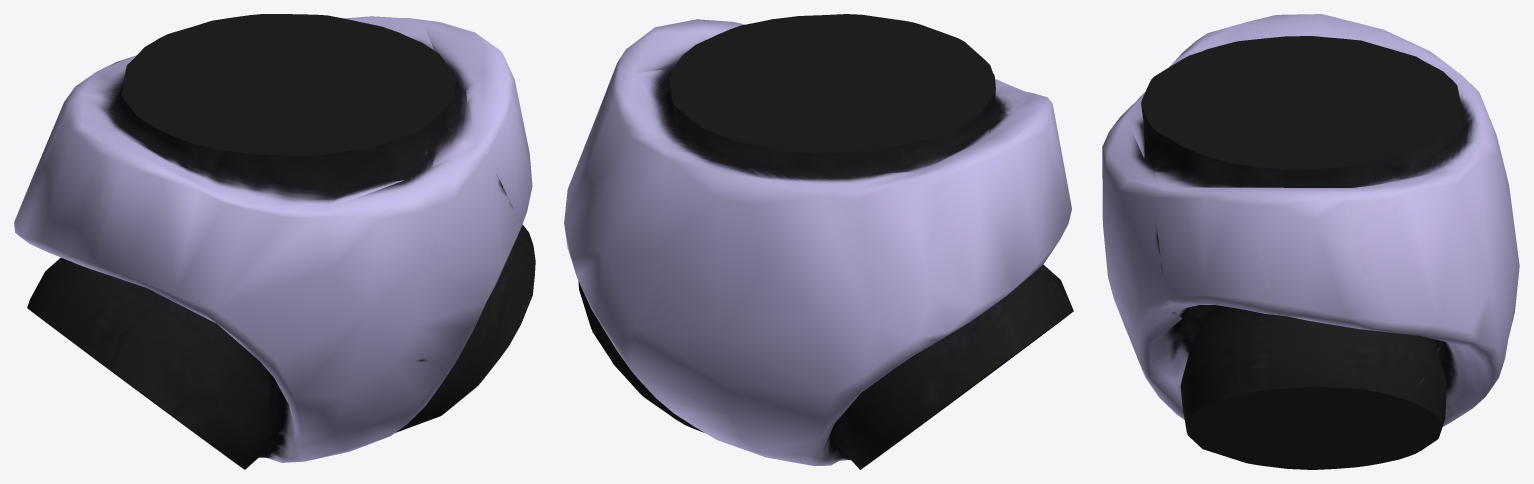
File: DummyPelvis.obj
3 renders of one model, left to right at view 1: azimuth 30°, elevation 25°; view 2: azimuth 150°, elevation 25°; view 3: azimuth 270°, elevation 25°, orthographic. The views are drawn at different scales.
Bounding box in the file's own units: 4.67 × 3.48 × 3.86.
1 material, 1 textured.
